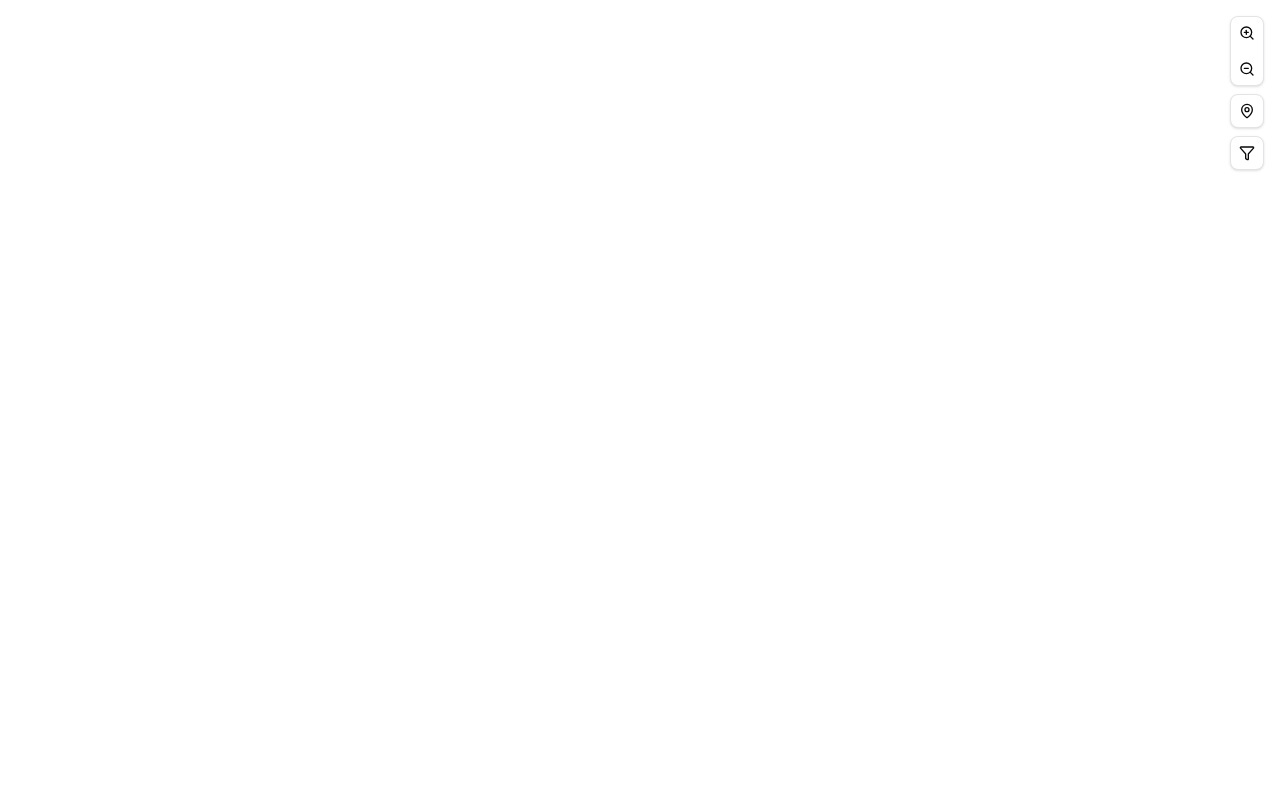
it: MapControls › should name the band in the currency of the listings
The image size is (1280, 800).
Click the button named "Toggle map filters" at (1247, 153), box [1230,136,1264,170]
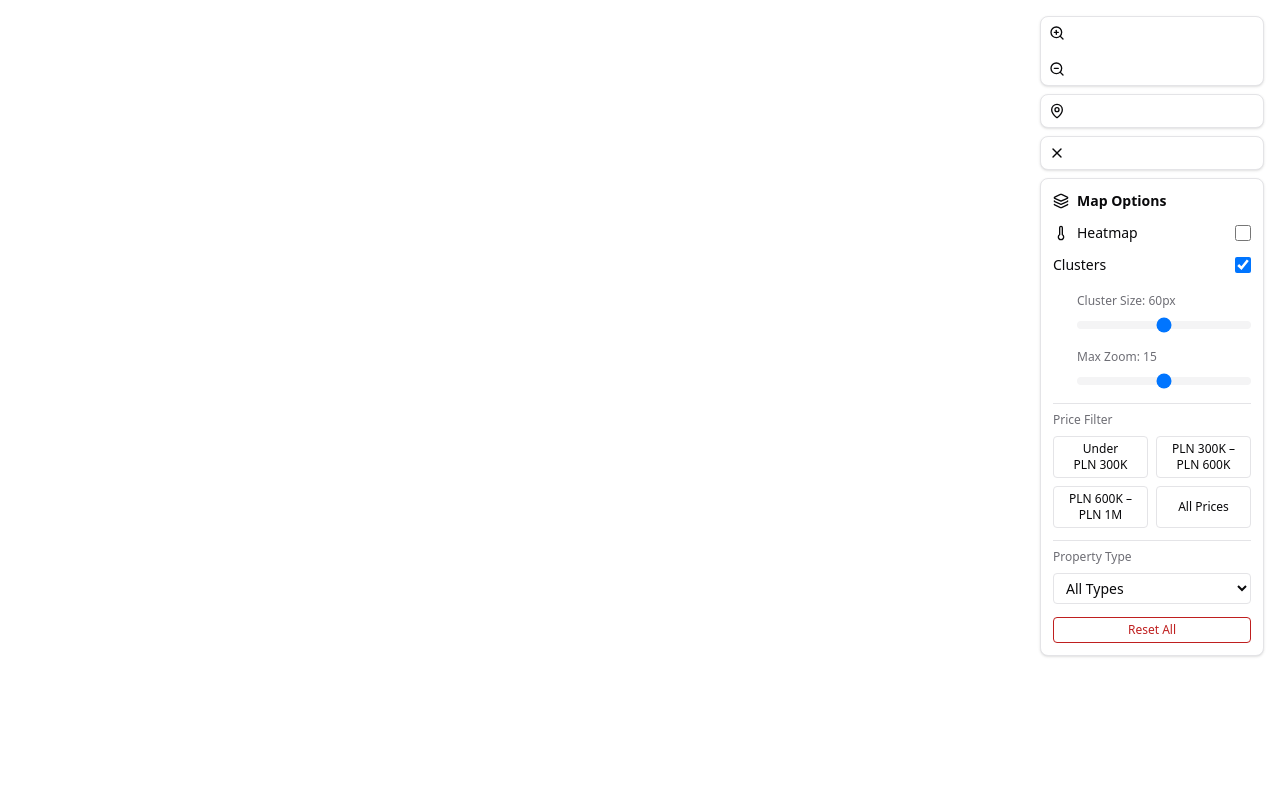
Expected: the button with aria-label "Filter under PLN 300K" is shown, [1053,436,1148,478]
